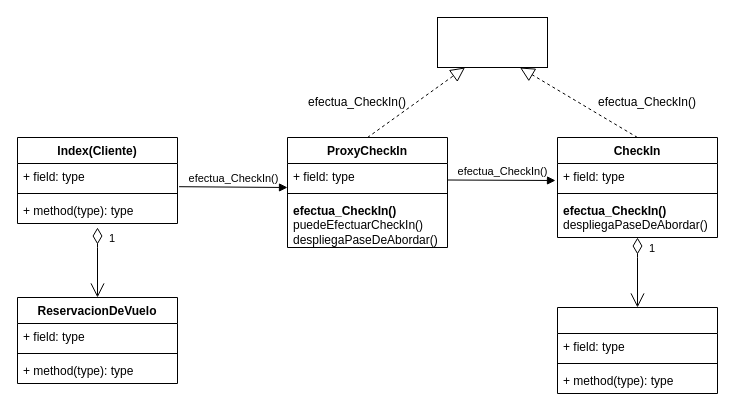
This 735x414 diagram has some shape labels left out. The box of each missing label's shape, as (x1, y1, x2, y2) in pixels:
PaseDeAbordar: (556, 306, 718, 394)
«interface» ICheckIn: (436, 16, 548, 68)
